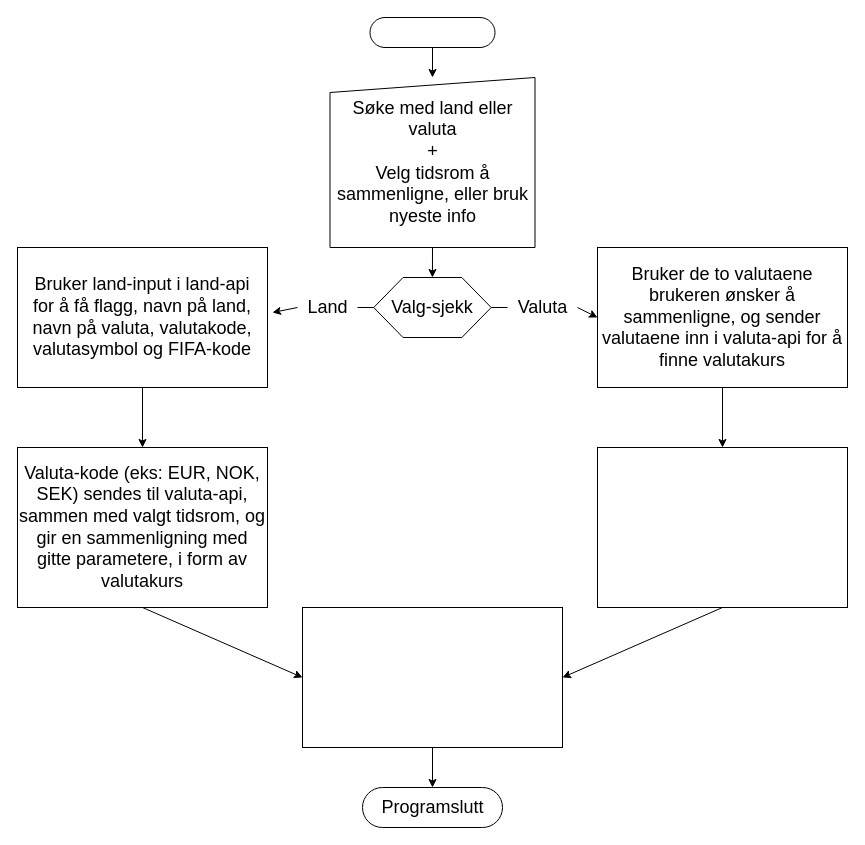
Some shapes in this 865 by 845 pixel diagram are drawn without their labels. Each missing label, with the centre of its shape:
Programstart: point 432,32
Sender valuta-koden (eks: NOK, EUR, SEK) til land-api for å få valutasymbolet: point 722,527
Viser en graf med oversikt over valutakurs over den gitte perioden: point 432,677
